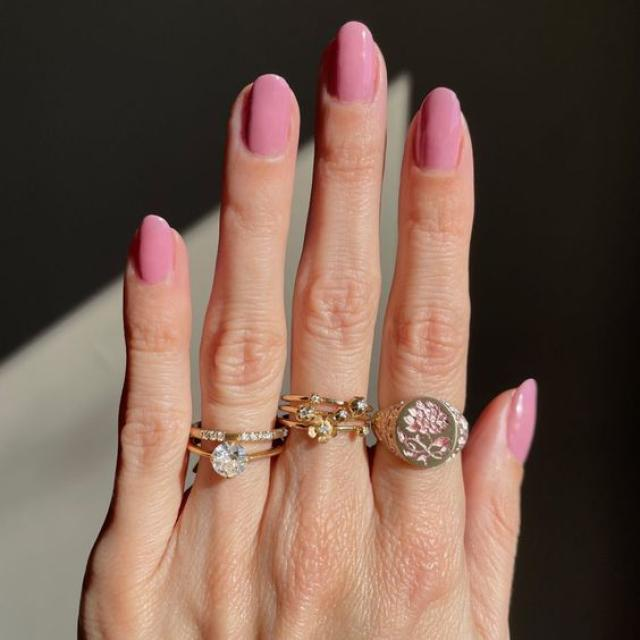Fingernail: (327, 23, 377, 103), (414, 88, 461, 169), (246, 76, 291, 159), (132, 217, 174, 287), (507, 379, 536, 463)
